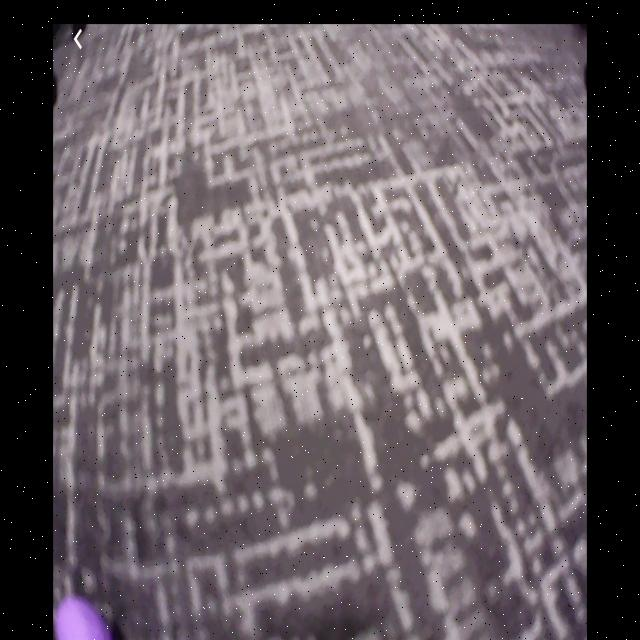ball: (56, 594, 112, 640)
